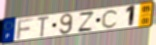1: (125, 4, 136, 28)
9: (59, 13, 76, 35)
C: (100, 9, 120, 30)
F: (16, 18, 35, 40)
T: (36, 16, 51, 38)
Z: (76, 11, 96, 33)
